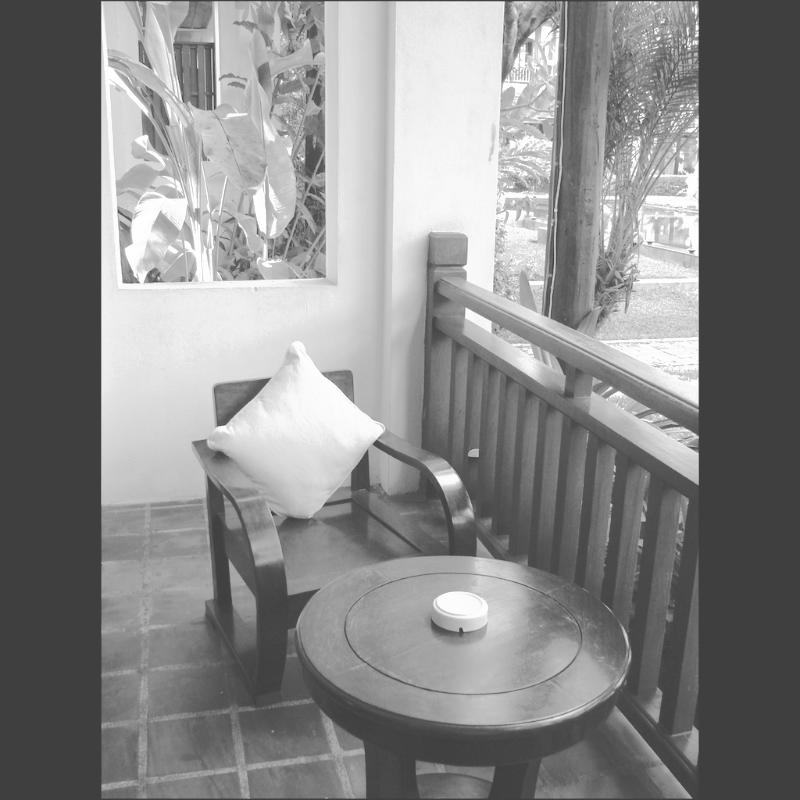pillow: (214, 353, 411, 514)
